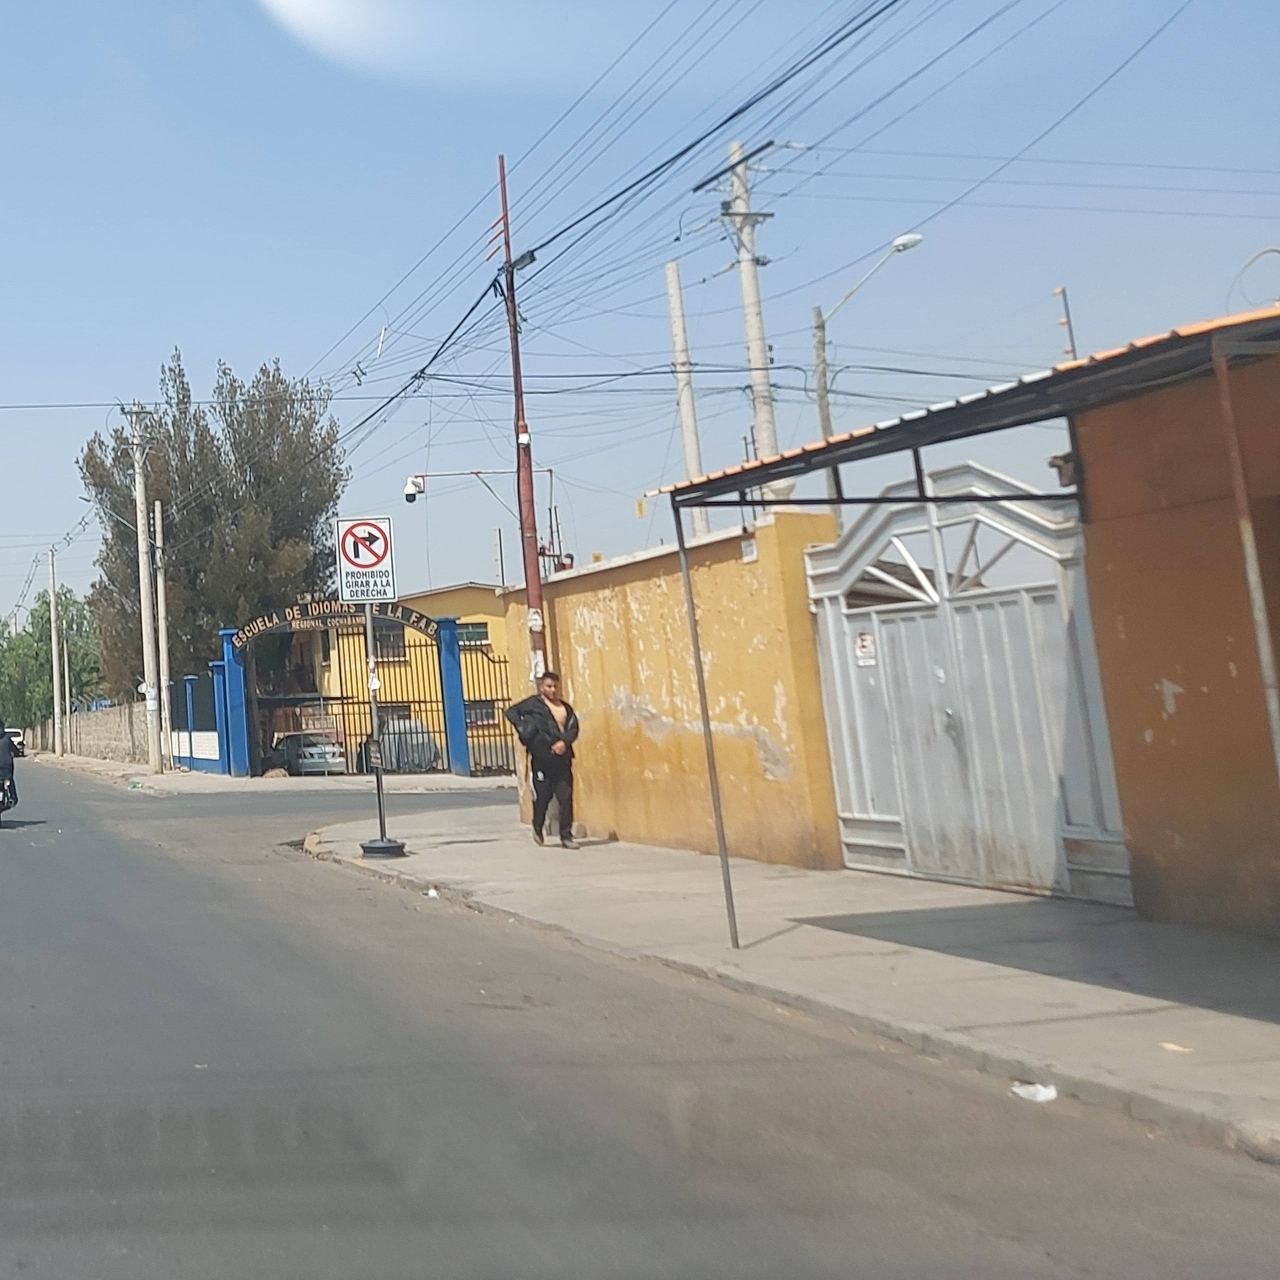prohibido-girar-derecha: (335, 516, 399, 604)
